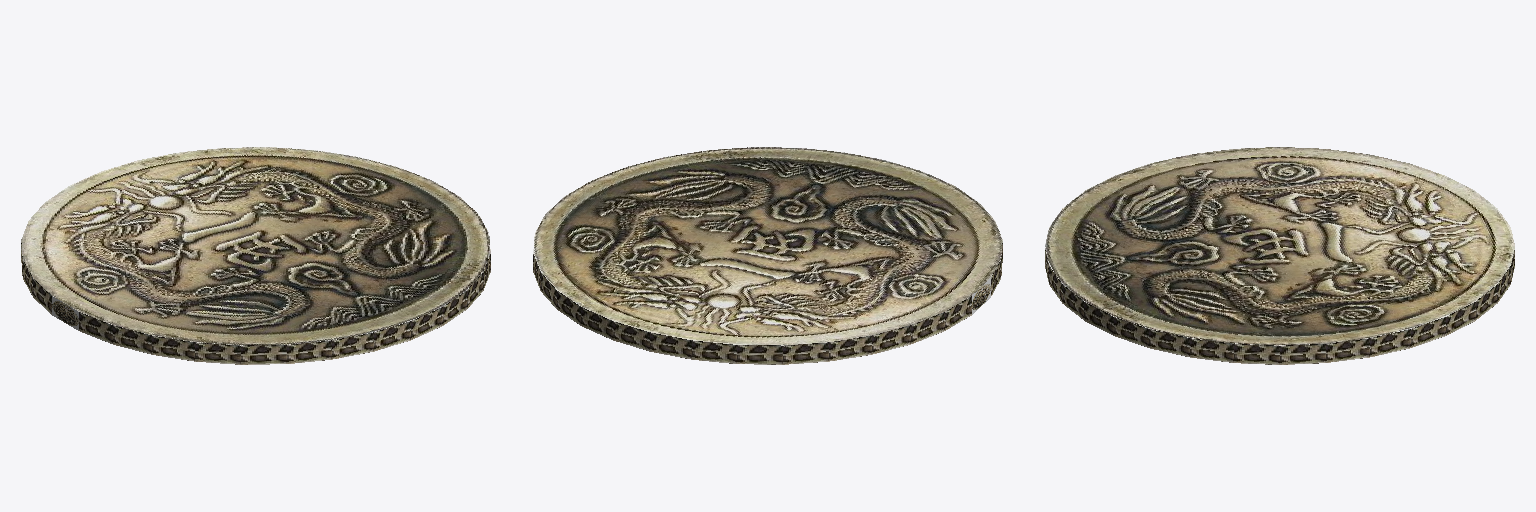
3 views of the same model, side by side, from view 1: azimuth 30°, elevation 25°; view 2: azimuth 150°, elevation 25°; view 3: azimuth 270°, elevation 25° (orthographic).
Parts seen in each view (by area): view 1: Circle; view 2: Circle; view 3: Circle.
Boxes of the visible parts, box(x1,y1,x2,y2) form: Circle: box(21, 147, 490, 364); Circle: box(533, 147, 1002, 364); Circle: box(1045, 147, 1514, 364).
Bounding box in the file's own units: 1.99 × 0.0903 × 1.99.
1 materials, 1 textured.